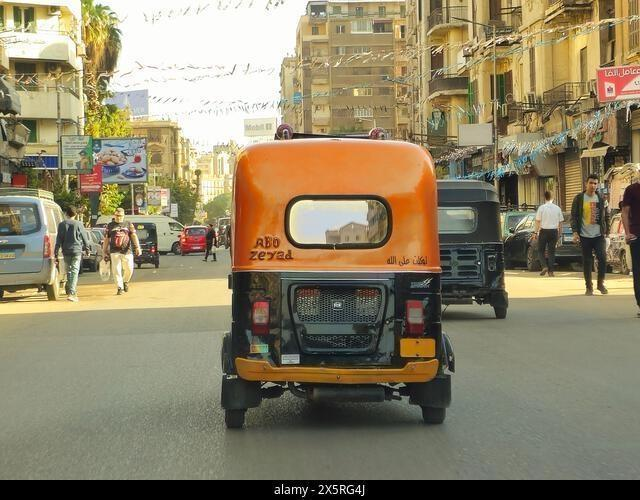keke: (226, 130, 462, 444), (435, 181, 513, 330)
